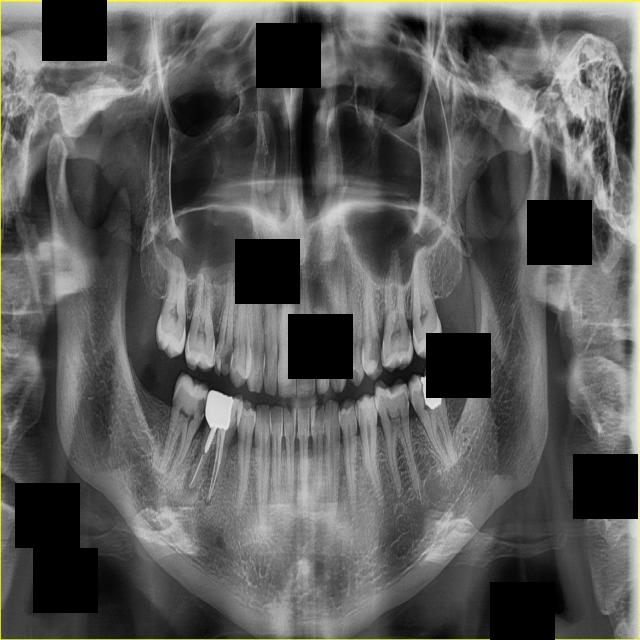71: (201, 425, 218, 455)
74: (207, 426, 227, 501), (189, 453, 204, 486)
NucleOSS Implant: (203, 388, 234, 430), (420, 368, 445, 410)
Sterngold Implant: (366, 331, 384, 372), (217, 340, 232, 373), (195, 396, 207, 418), (229, 352, 240, 372), (208, 333, 216, 352), (263, 359, 270, 380), (403, 389, 409, 412), (408, 388, 415, 404), (412, 332, 418, 349), (408, 333, 413, 348)
Straumann Implant: (320, 352, 330, 386)
